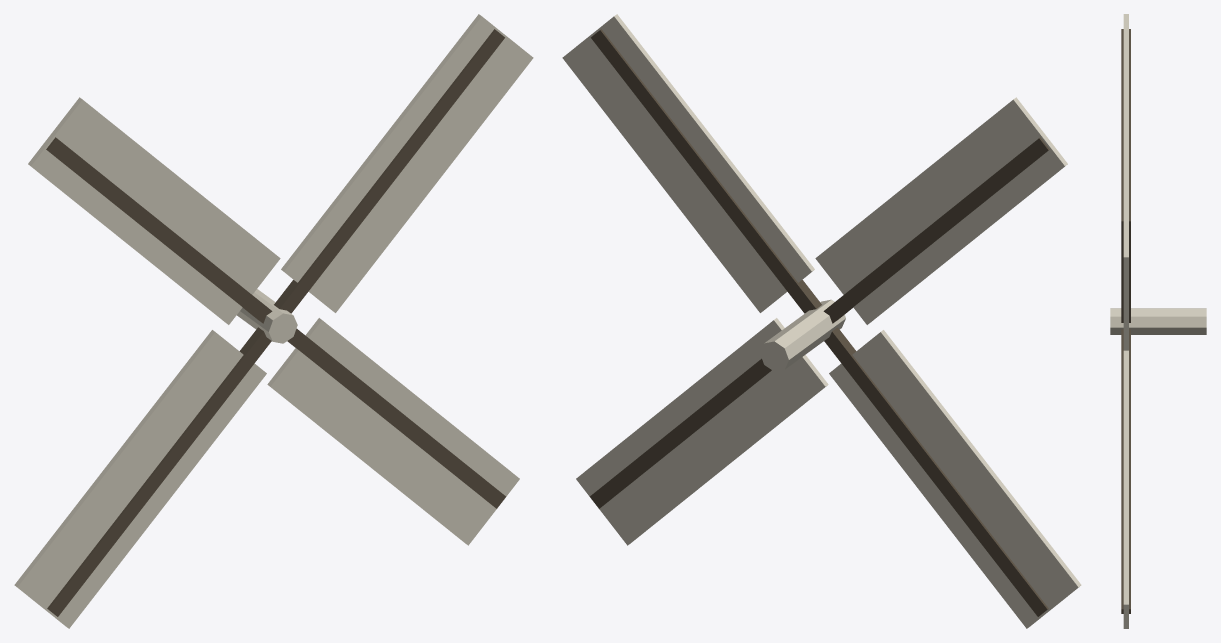
File: windmill-blades-3.dae
The picture shows the model from 3 angles, left to right: view 1: azimuth 30°, elevation 25°; view 2: azimuth 150°, elevation 25°; view 3: azimuth 270°, elevation 25°; orthographic projection. The views are drawn at different scales.
Visible parts, largest first — view 1: Cube_009, Cube_003, Cube_011, Cube_007, Cube_005, Cube_008, Cube_010, Cube_006, Cylinder_001; view 2: Cube_009, Cube_003, Cube_011, Cube_007, Cube_005, Cube_008, Cube_010, Cube_006, Cylinder_001; view 3: Cylinder_001, Cube_007, Cube_006, Cube_011, Cube_003, Cube_010, Cube_005.
Boxes of the visible parts, x1,y1,x2,y2 form: Cube_009: (14, 330, 266, 628); Cube_003: (281, 14, 533, 312); Cube_011: (28, 97, 280, 324); Cube_007: (267, 318, 519, 545); Cube_005: (274, 29, 504, 313); Cube_008: (47, 327, 271, 616); Cube_010: (46, 137, 272, 323); Cube_006: (287, 328, 505, 508); Cylinder_001: (237, 289, 297, 343); Cube_009: (829, 330, 1081, 628); Cube_003: (562, 14, 814, 312); Cube_011: (815, 97, 1067, 324); Cube_007: (576, 318, 828, 545); Cube_005: (591, 29, 821, 313); Cube_008: (824, 327, 1048, 616); Cube_010: (823, 137, 1049, 323); Cube_006: (590, 358, 771, 508); Cylinder_001: (760, 299, 845, 371); Cylinder_001: (1110, 308, 1206, 334); Cube_007: (1123, 350, 1128, 628); Cube_006: (1121, 329, 1130, 613); Cube_011: (1123, 14, 1128, 190); Cube_003: (1123, 190, 1128, 350); Cube_010: (1121, 29, 1130, 208); Cube_005: (1121, 209, 1130, 322).
Size of the model in its own units: 0.6515 by 0.1249 by 0.6515.
